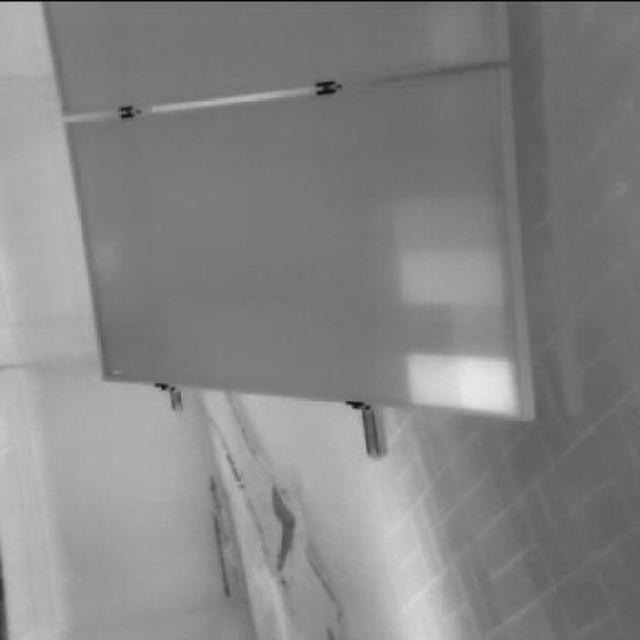hotspot: (406, 346, 522, 408), (396, 245, 518, 301), (395, 192, 510, 245)
